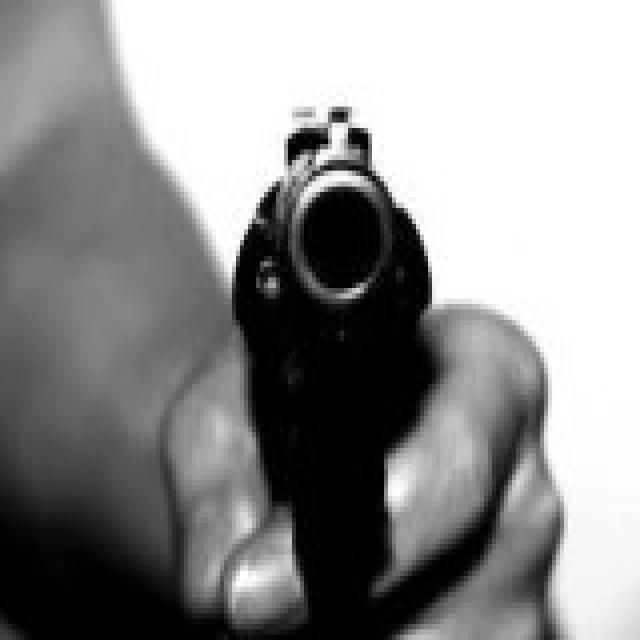Gun: (218, 85, 462, 579)
